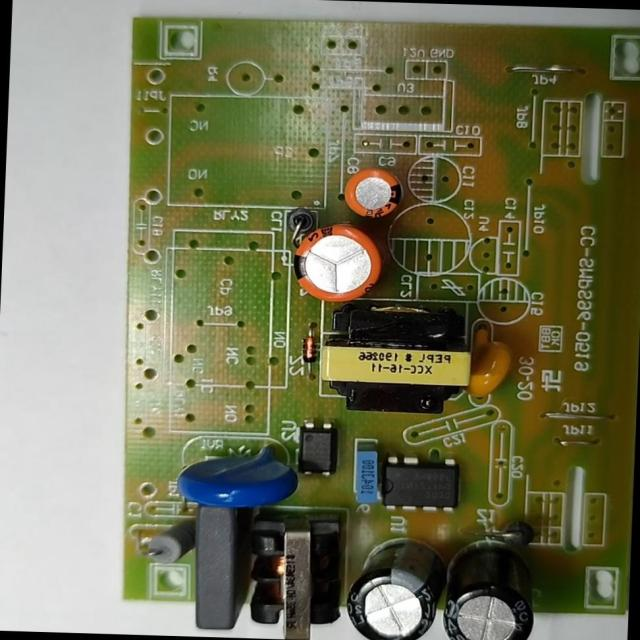Cap1: (290, 217, 386, 304)
Cap2: (341, 165, 407, 220)
Cap3: (339, 534, 445, 640)
Cap4: (438, 548, 539, 640)
MOSFET: (379, 453, 464, 513)
Mov: (175, 442, 304, 511)
Resistor: (140, 519, 198, 569)
Transformer: (314, 309, 476, 416), (237, 514, 343, 640)
